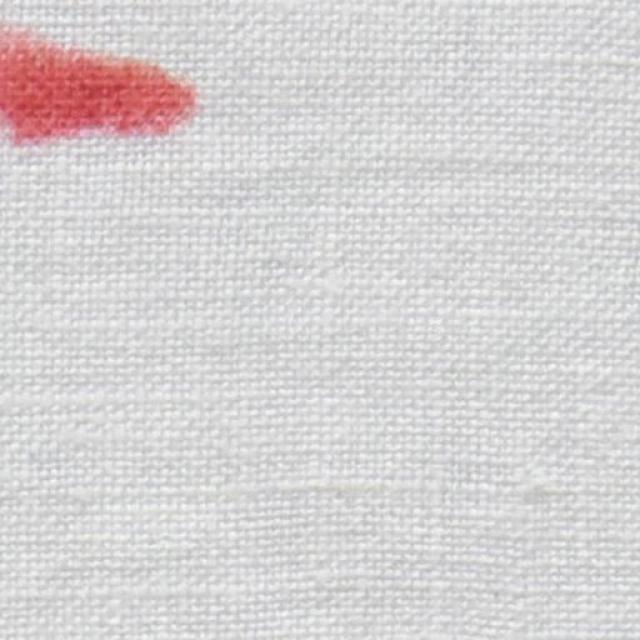Stain: (0, 25, 195, 143)
